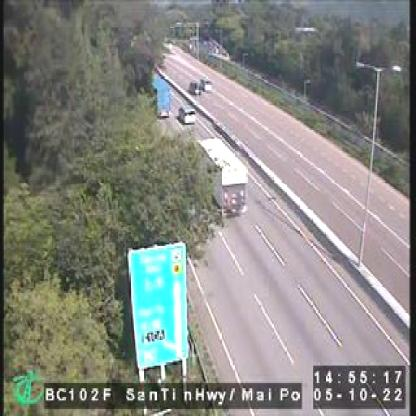Car: (177, 106, 195, 121), (199, 75, 213, 90), (186, 80, 199, 94)
Truck: (198, 137, 246, 211)
